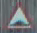Speed Breaker ahead: (1, 1, 36, 30)
